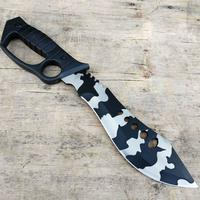knife: (2, 14, 198, 192)
